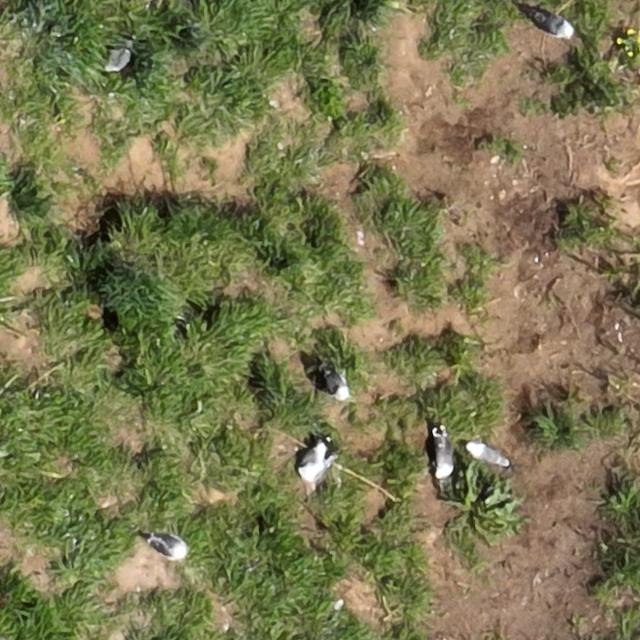umineko: (299, 444, 327, 477), (536, 14, 573, 36), (471, 444, 507, 466), (436, 437, 454, 478), (154, 537, 188, 558), (325, 369, 348, 397), (109, 48, 131, 70)
